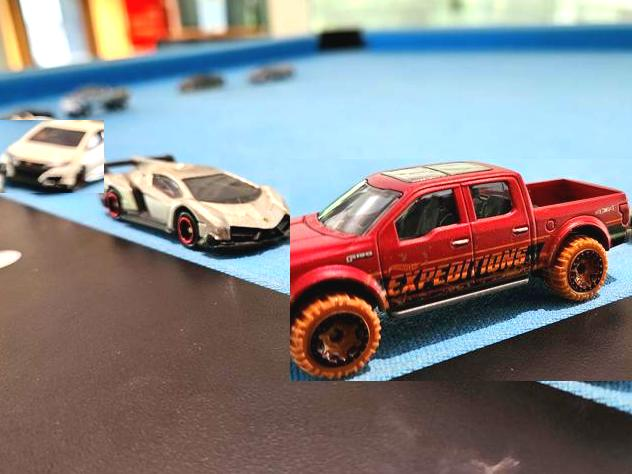toy-car: (290, 159, 632, 381), (96, 154, 291, 252), (0, 120, 104, 193)
